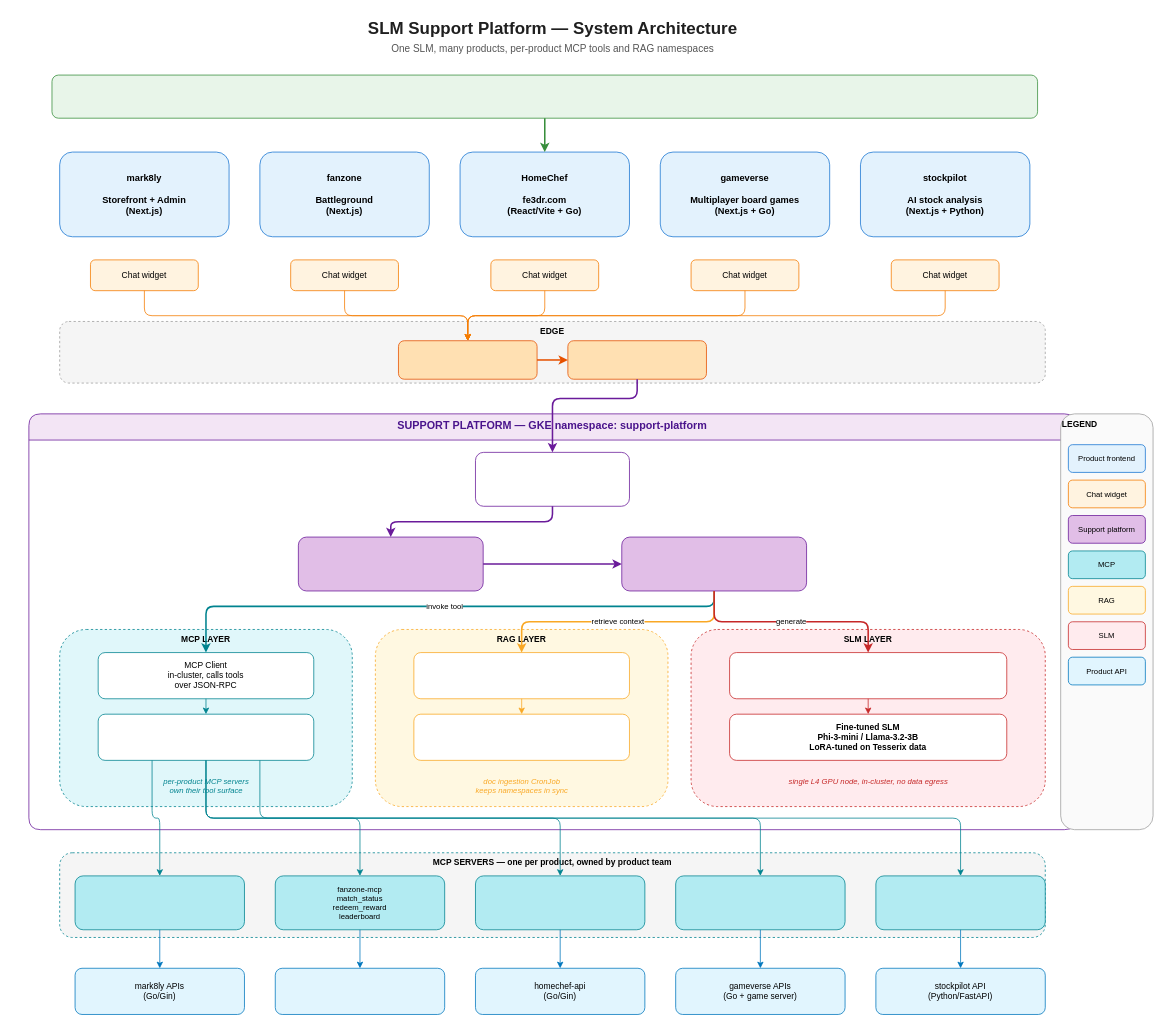
Image size: 1167x1028. Some labels were removed from this diagram. The centre of each missing label's shape, as x and y in pixels:
"Agent Orchestrator agent loop, tool routing, context assembly" goes at (714,563).
"Cloudflare DNS / WAF / Tunnel" goes at (467,359).
"CUSTOMERS — browsers, mobile, desktop" goes at (544,96).
"fanzone APIs (Go/Gin)" goes at (360,991).
"gameverse-mcp game_state rejoin_match rule_lookup" goes at (760,902).
"homechef-mcp lookup_order track_delivery chef_payout_status" goes at (560,902).
"Istio Gateway mTLS / routing" goes at (636,359).
"mark8ly-mcp find_product check_inventory track_order" goes at (159,902).
"MCP Server Registry lists available servers and their tool schemas" goes at (205,736).
"RAG Retriever embeds query, top-K in chosen namespace" goes at (521,675).
"Router Agent detects product + intent picks RAG namespace" goes at (390,563).
"stockpilot-mcp portfolio_lookup run_analysis subscription_status" goes at (960,902).
"support-bff Go / Gin session, streaming SSE" goes at (552,479).
"Vector DB Qdrant or pgvector namespaces: mark8ly, fanzone, homechef, ..." goes at (521,736).
"vLLM Serving OpenAI-compatible HTTP streaming, batching, KV cache" goes at (868,675).
